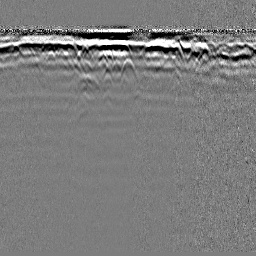cavity: (119, 56, 138, 82)
